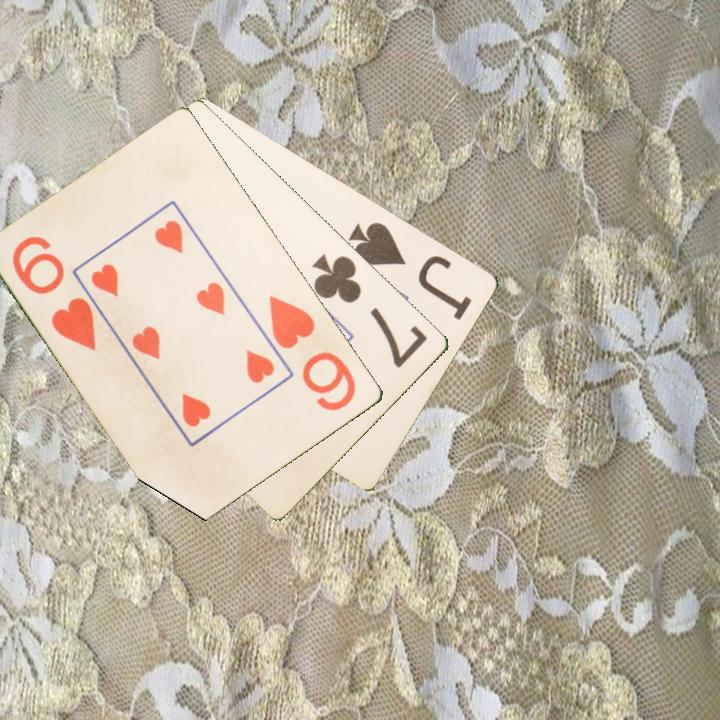6h: (265, 292, 360, 415), (9, 232, 102, 354)
7c: (309, 250, 431, 371)
Js: (344, 218, 475, 323)
